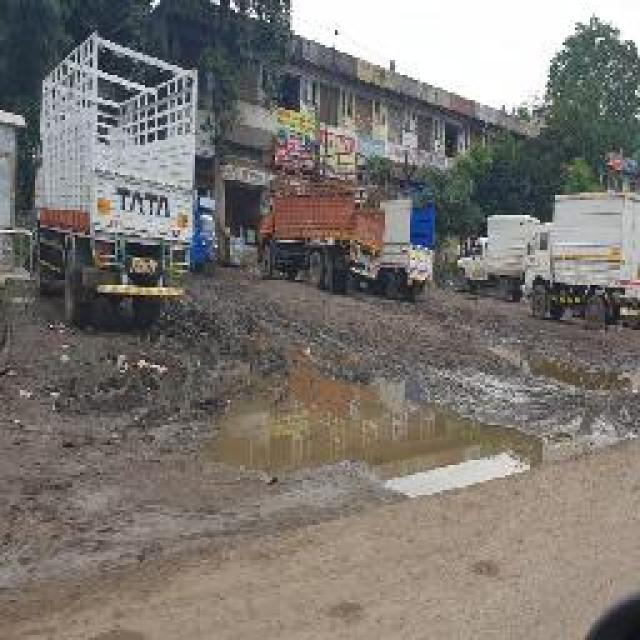waterlogging: (207, 350, 549, 498)
